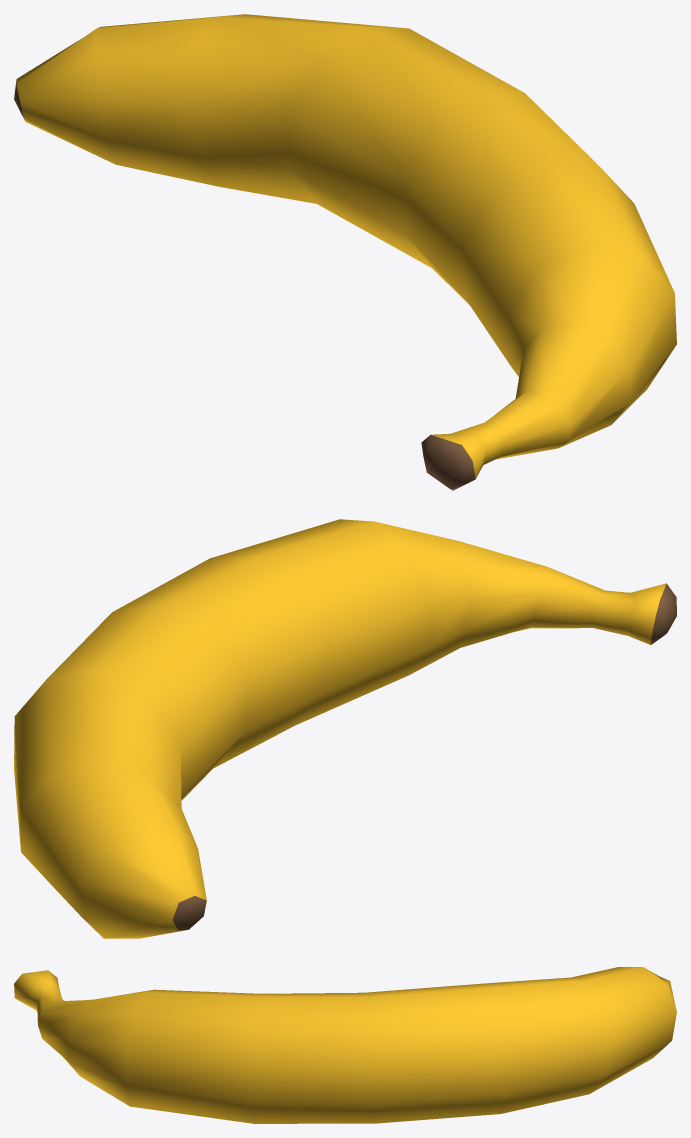
The model's file is Banana.fbx.
3 views of the same model, one above another, from view 1: azimuth 30°, elevation 25°; view 2: azimuth 150°, elevation 25°; view 3: azimuth 270°, elevation 25° (orthographic). The views are drawn at different scales.
Visible parts, largest first — view 1: Banana; view 2: Banana; view 3: Banana.
Boxes of the visible parts, x1,y1,x2,y2 form: Banana: (14,14,676,490); Banana: (14,519,676,938); Banana: (14,967,676,1123).
Size of the model in its own units: 0.1253 by 0.0604 by 0.2843.
